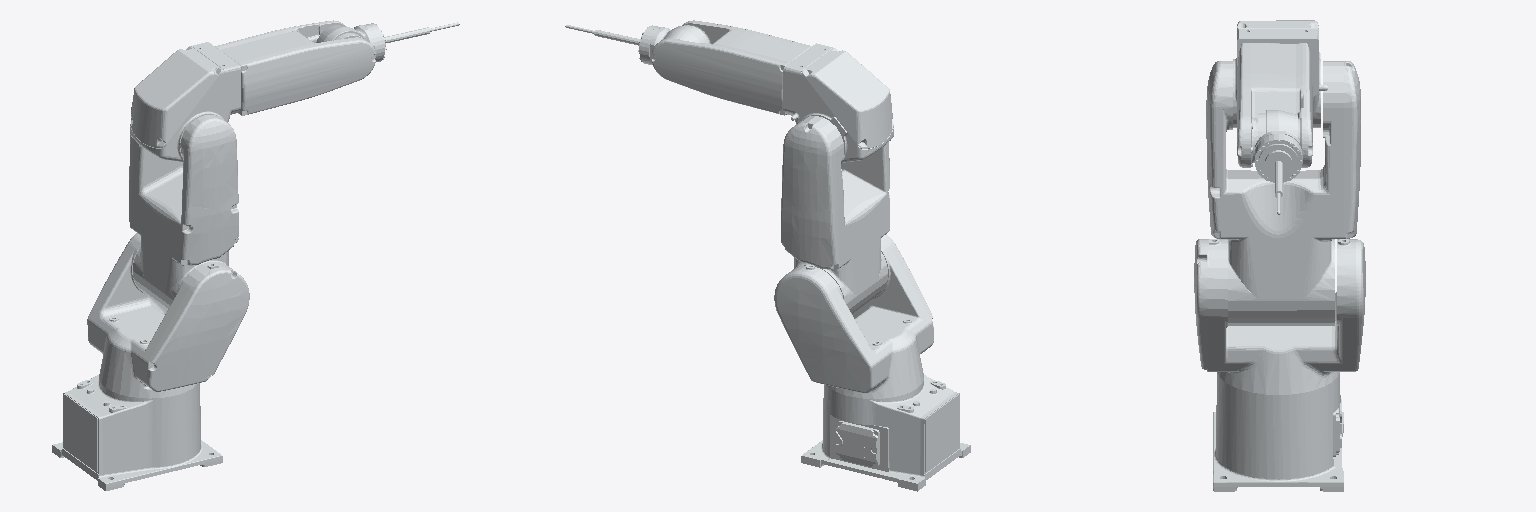
URDF robot description (robot_arm):
<?xml version="1.0" encoding="utf-8"?>
<robot name="robot_arm">
  <link name="base_link">
    <inertial>
      <origin
        xyz="-0.024587 -0.00011297 0.077167"
        rpy="0 0 0" />
      <mass value="13.634" />
      <inertia 
        ixx="0.053406" 
        ixy="-0.00026284" 
        ixz="0.0025009" 
        iyy="0.076734" 
        iyz="9.8013E-05"
        izz="0.080661" />
    </inertial>
    <visual>
      <origin 
        xyz="0 0 0.16" 
        rpy="0 0 0" />
      <geometry>
        <mesh filename="package://robot_arm/meshes/base_link.STL" />
      </geometry>
      <material name="">
        <color rgba="0.89804 0.91765 0.92941 1" />
      </material>
    </visual>
    <collision>
      <origin 
        xyz="0 0 0.16" 
        rpy="0 0 0" />
      <geometry>
        <mesh filename="package://robot_arm/meshes/base_link.STL" />
      </geometry>
    </collision>
  </link>

  <link name="Link1">
    <inertial>
      <origin 
        xyz="-0.052523 -0.085216 0.00070571" 
        rpy="0 0 0" />
      <mass value="12.259" />
      <inertia 
        ixx="0.11869" 
        ixy="0.018675" 
        ixz="0.0012185" 
        iyy="0.10528" 
        iyz="0.0021687"
        izz="0.073332" />
    </inertial>
    <visual>
      <origin 
        xyz="0.075 0 0.330" 
        rpy="1.5708 0 0" />
      <geometry>
        <mesh filename="package://robot_arm/meshes/Link1.STL" />
      </geometry>
      <material name="">
        <color rgba="0.89804 0.91765 0.92941 1" />
      </material>
    </visual>
    <collision>
      <origin 
        xyz="0.075 0 0.330" 
        rpy="1.5708 0 0" />
      <geometry>
        <mesh filename="package://robot_arm/meshes/Link1.STL" />
      </geometry>
    </collision>
  </link>

  <joint name="Joint1" type="revolute">
    <origin 
      xyz="0 0 0" 
      rpy="0 0 0" />
    <parent link="base_link" />
    <child link="Link1" />
    <axis xyz="0 0 1" />
    <limit 
      lower="-2.9671" 
      upper="2.9671" 
      effort="150" 
      velocity="6.1087" />
  </joint>

  <link name="Link2">
    <inertial>
      <origin 
        xyz="-0.19002 0.00047983 -0.010651" 
        rpy="0 0 0" />
      <mass value="16.077" />
      <inertia 
        ixx="0.079946" 
        ixy="-1.0509E-05" 
        ixz="-0.01131" 
        iyy="0.22994" 
        iyz="-0.00016923"
        izz="0.18226" />
    </inertial>
    <visual>
      <origin 
        xyz="0 0.3 0" 
        rpy="0 0 1.5708" />
      <geometry>
        <mesh filename="package://robot_arm/meshes/Link2.STL" />
      </geometry>
      <material name="">
        <color rgba="0.89804 0.91765 0.92941 1" />
      </material>
    </visual>
    <collision>
      <origin 
        xyz="0 0.3 0" 
        rpy="0 0 1.5708" />
      <geometry>
        <mesh filename="package://robot_arm/meshes/Link2.STL" />
      </geometry>
    </collision>
  </link>

  <joint name="Joint2" type="revolute">
    <origin 
      xyz="0.075 0 0.330" 
      rpy="1.5708 0 0" />
    <parent link="Link1" />
    <child link="Link2" />
    <axis xyz="0 0 1" />
    <limit 
      lower="-1.7453" 
      upper="1.7453" 
      effort="150" 
      velocity="6.1087" />
  </joint>

  <link name="Link3">
    <inertial>
      <origin 
        xyz="-0.03716 0.001173 -0.081675" 
        rpy="0 0 0" />
      <mass value="7.32" />
      <inertia 
        ixx="0.022615" 
        ixy="-0.00010223" 
        ixz="0.0046415" 
        iyy="0.027884" 
        iyz="-1.1208E-05"
        izz="0.023179" />
    </inertial>
    <visual>
      <origin 
        xyz="0.07646 -0.0797 0" 
        rpy="1.572 0 0" />
      <geometry>
        <mesh filename="package://robot_arm/meshes/Link3.STL" />
      </geometry>
      <material name="">
        <color rgba="0.89804 0.91765 0.92941 1" />
      </material>
    </visual>
    <collision>
      <origin 
        xyz="0.07646 -0.0797 0"
         rpy="1.572 0 0" />
      <geometry>
        <mesh filename="package://robot_arm/meshes/Link3.STL" />
      </geometry>
    </collision>
  </link>

  <joint name="Joint3" type="revolute">
    <origin 
      xyz="0 0.3 0" 
      rpy="0 0 1.5708" />
    <parent link="Link2" />
    <child link="Link3" />
    <axis xyz="0 0 1" />
    <limit 
      lower="-3.6859" 
      upper="3.3859" 
      effort="150" 
      velocity="6.9813" />
  </joint>

  <link name="Link4">
    <inertial>
      <origin 
        xyz="-0.0024871 0.12874 0.0059825" 
        rpy="0 0 0" />
      <mass value="5.82" />
      <inertia 
        ixx="0.032618" 
        ixy="-0.00040859" 
        ixz="2.1488E-05" 
        iyy="0.010466" 
        iyz="-0.00033652"
        izz="0.030701" />
    </inertial>
    <visual>
      <origin 
        xyz="-4.1676E-05 0.00029138 0.23814" 
        rpy="-1.572 0 0" />
      <geometry>
        <mesh filename="package://robot_arm/meshes/Link4.STL" />
      </geometry>
      <material name="">
        <color rgba="0.89804 0.91765 0.92941 1" />
      </material>
    </visual>
    <collision>
      <origin 
        xyz="-4.1676E-05 0.00029138 0.23814" 
        rpy="-1.572 0 0" />
      <geometry>
        <mesh filename="package://robot_arm/meshes/Link4.STL" />
      </geometry>
    </collision>
  </link>

  <joint name="Joint4" type="revolute">
    <origin 
      xyz="0.07646 -0.0797 0" 
      rpy="1.572 0 0" />
    <parent link="Link3" />
    <child link="Link4" />
    <axis xyz="0 0 1" />
    <limit lower="-3.3161" upper="3.3161" effort="150" velocity="7.854" />
  </joint>

  <link name="Link5">
    <inertial>
      <origin 
        xyz="0.0011607 0.0015533 -0.058703" 
        rpy="0 0 0" />
      <mass value="1.2072" />
      <inertia 
        ixx="0.0014824" 
        ixy="6.8815E-07" 
        ixz="-1.298E-05" 
        iyy="0.0016274" 
        iyz="-3.4122E-05"
        izz="0.00083285" />
    </inertial>
    <visual>
      <origin 
        xyz="-0.00146 -0.07395 0" 
        rpy="1.572 0 0" />
      <geometry>
        <mesh filename="package://robot_arm/meshes/Link5.STL" />
      </geometry>
      <material name="">
        <color rgba="0.89804 0.91765 0.92941 1" />
      </material>
    </visual>
    <collision>
      <origin 
        xyz="-0.00146 -0.07395 0" 
        rpy="1.572 0 0" />
      <geometry>
        <mesh filename="package://robot_arm/meshes/Link5.STL" />
      </geometry>
    </collision>
  </link>

  <joint name="Joint5" type="revolute">
    <origin 
      xyz="-4.1676E-05 0.00029138 0.23814" 
      rpy="-1.572 0 0" />
    <parent link="Link4" />
    <child link="Link5" />
    <axis xyz="0 0 1" />
    <limit 
      lower="-2.0944" 
      upper="2.0944" 
      effort="150" 
      velocity="7.854" />
  </joint>

  <link name="Link6">
    <inertial>
      <origin 
        xyz="0.0028018 -0.00027708 -0.1369" 
        rpy="0 0 0" />
      <mass value="0.074288" />
      <inertia 
        ixx="0.00014064" 
        ixy="-3.6954E-13" 
        ixz="-2.6419E-06" 
        iyy="0.00014069" 
        iyz="1.85E-11"
        izz="8.4273E-06" />
    </inertial>
    <visual>
      <origin 
        xyz="-0.00344 0.0002059 0.16825" 
        rpy="0 0 0" />
      <geometry>
        <mesh filename="package://robot_arm/meshes/Link6.STL" />
      </geometry>
      <material name="">
        <color rgba="0.89804 0.91765 0.92941 1" />
      </material>
    </visual>
    <collision>
      <origin 
        xyz="-0.00344 0.0002059 0.16825" 
        rpy="0 0 0" />
      <geometry>
        <mesh filename="package://robot_arm/meshes/Link6.STL" />
      </geometry>
    </collision>
  </link>

  <joint name="Joint6" type="revolute">
    <origin 
      xyz="-0.00146 -0.07395 0" 
      rpy="1.572 0 0" />
    <parent link="Link5" />
    <child link="Link6" />
    <axis xyz="0 0 1" />
    <limit 
      lower="-6.2832" 
      upper="6.2832" 
      effort="150" 
      velocity="12.5664" />
  </joint>
</robot>

--- Render facts (derived) ---
Views: 3 orthographic renders of the robot side by side, from view 1: azimuth 30°, elevation 25°; view 2: azimuth 150°, elevation 25°; view 3: azimuth 270°, elevation 25°.
Model robot_arm with 7 links and 6 joints (6 revolute), rooted at base_link, posed all joints at 0.
Links seen in each view (by area): view 1: Link1, Link2, base_link, Link4, Link3, Link5; view 2: Link1, Link2, base_link, Link4, Link3, Link5; view 3: Link2, Link1, base_link, Link4, Link3, Link5, Link6.
Link boxes in pixels (x1,y1,x2,y2): Link1: (87, 233, 249, 398); Link2: (129, 102, 238, 309); base_link: (52, 375, 222, 490); Link4: (215, 20, 375, 115); Link3: (130, 42, 240, 161); Link5: (316, 23, 386, 61); Link1: (774, 234, 933, 398); Link2: (781, 116, 889, 313); base_link: (801, 375, 970, 491); Link4: (651, 20, 811, 115); Link3: (783, 43, 893, 162); Link5: (638, 25, 709, 64); Link2: (1206, 61, 1360, 325); Link1: (1194, 239, 1365, 394); base_link: (1213, 373, 1343, 491); Link4: (1237, 43, 1312, 167); Link3: (1233, 20, 1327, 127); Link5: (1255, 110, 1302, 182); Link6: (1265, 150, 1291, 214).
Size in the robot's own frame: 0.7802 by 0.249 by 0.7514 metres.
7 mesh visuals loaded from 7 distinct referenced files (7 binary STL).
